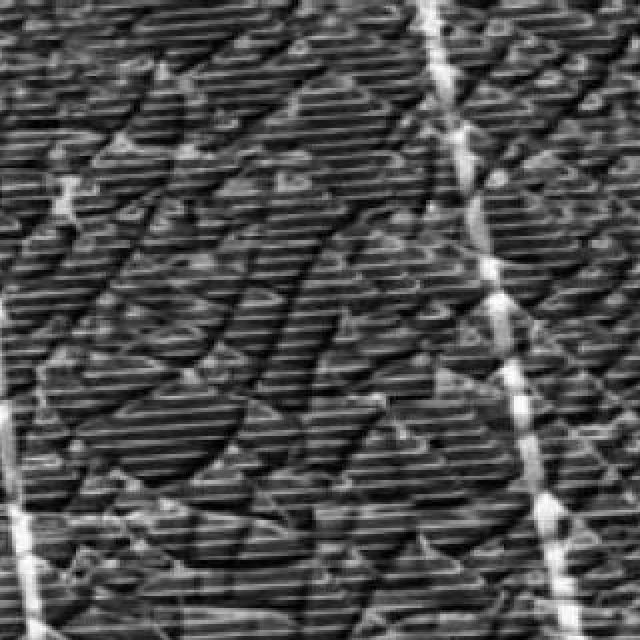Physical-damage: (11, 13, 631, 636)
